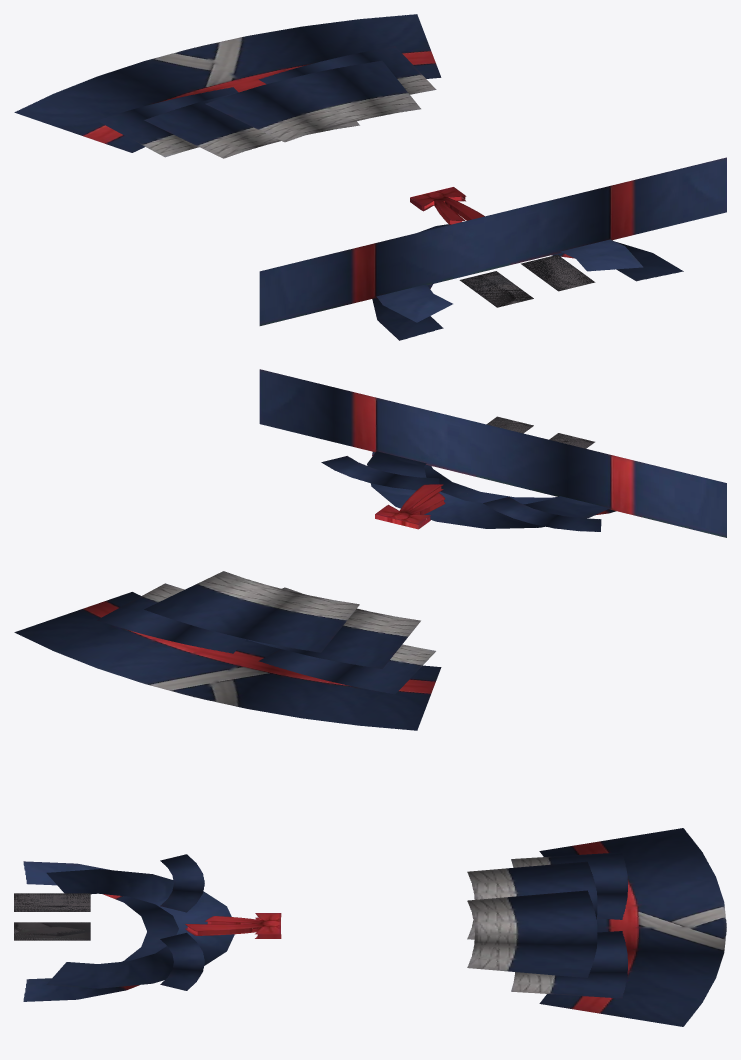
Rendered from ninja_fold.glb.
The picture shows the model from 3 angles, top to bottom: view 1: azimuth 30°, elevation 25°; view 2: azimuth 150°, elevation 25°; view 3: azimuth 270°, elevation 25°; orthographic projection.
Parts seen in each view (by area): view 1: GEO-ninja; view 2: GEO-ninja; view 3: GEO-ninja.
Boxes of the visible parts, x1,y1,x2,y2 form: GEO-ninja: (14, 14, 726, 340); GEO-ninja: (14, 369, 726, 730); GEO-ninja: (14, 828, 726, 1026).
Size of the model in its own units: 1.07 by 0.123 by 1.39.
1 material, 1 textured.
